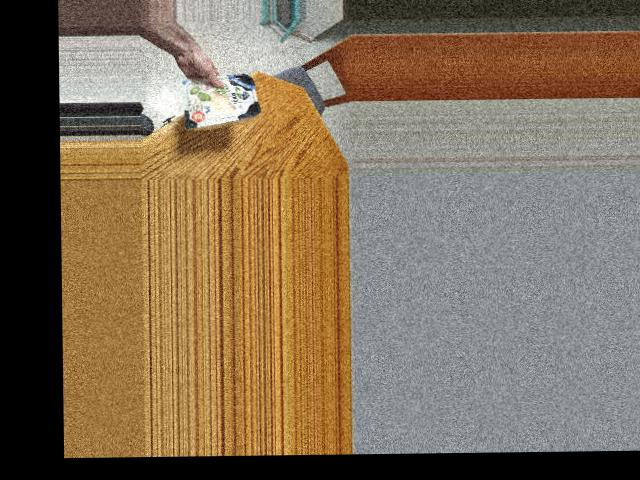cheese: (192, 63, 255, 126)
